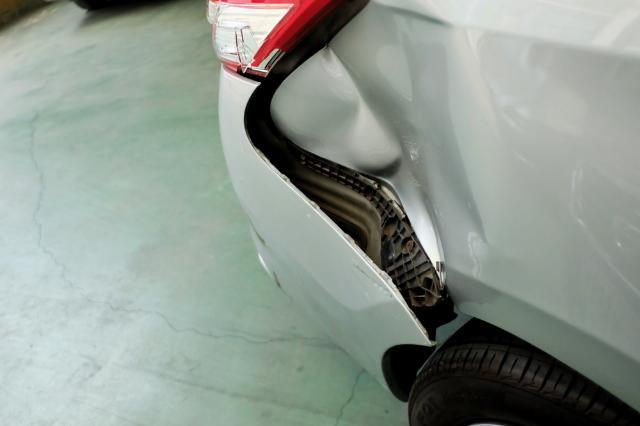dent: (279, 4, 530, 301)
dislocated part: (217, 71, 457, 403)
lamp broken: (208, 0, 338, 78)
